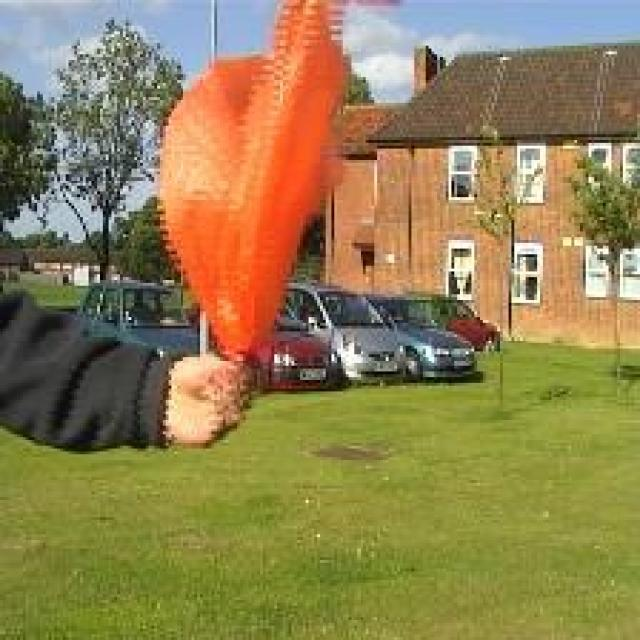other: (138, 0, 362, 377)
